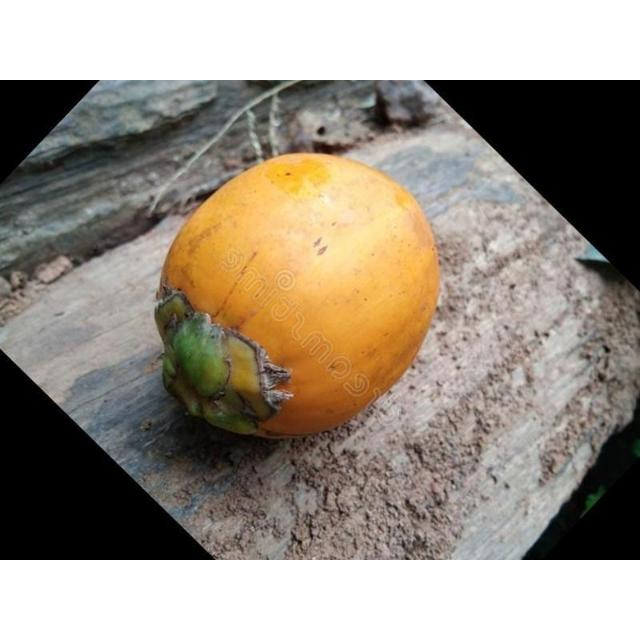good: (154, 154, 441, 440)
